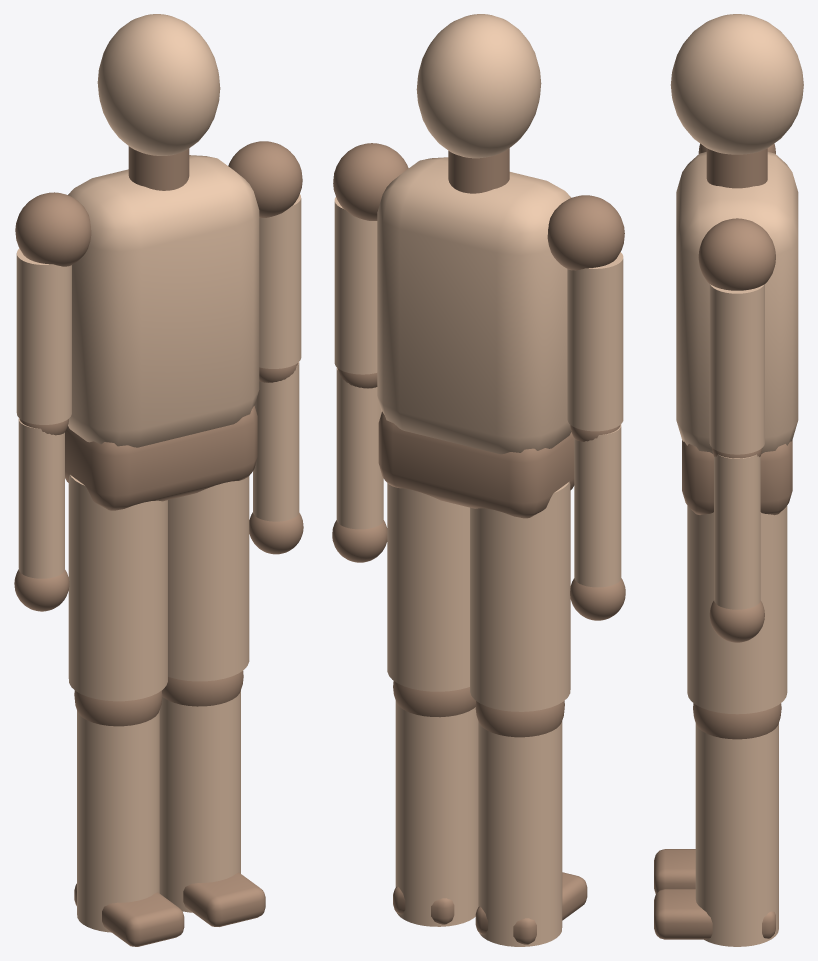
The model's file is phantom.glb.
3 renders of one model, left to right at view 1: azimuth 30°, elevation 25°; view 2: azimuth 150°, elevation 25°; view 3: azimuth 270°, elevation 25°, orthographic.
Visible parts, largest first — view 1: torso, Cylinder.001, Cylinder.005, Cylinder, Cylinder.004, head, Cube.002, Cylinder.002, Cylinder.003, Cylinder.006, Cylinder.007, Sphere.001 (+8 smaller); view 2: torso, Cylinder.001, Cylinder, Cylinder.004, Cylinder.005, head, Cube.002, Cylinder.002, Cylinder.003, Cylinder.006, Cylinder.007, Sphere.001 (+8 smaller); view 3: torso, Cylinder.004, head, Cylinder.005, Cylinder.006, Cylinder.007, Sphere.005, Cube.002, Cube.001, Sphere.004, Cylinder.008, Sphere.007 (+1 smaller).
Part boxes in pixels (x1,y1,x2,y2): torso: (68,155,259,447); Cylinder.001: (68,475,167,701); Cylinder.005: (168,476,249,681); Cylinder: (77,710,159,932); Cylinder.004: (159,690,240,912); head: (97,14,220,155); Cube.002: (65,405,257,510); Cylinder.002: (16,248,71,424); Cylinder.003: (18,418,64,578); Cylinder.006: (259,194,301,368); Cylinder.007: (253,362,299,521); Sphere.001: (15,192,91,266); torso: (377,157,571,454); Cylinder.001: (470,481,570,711); Cylinder: (478,721,562,946); Cylinder.004: (395,701,478,926); Cylinder.005: (387,483,469,691); head: (416,14,541,158); Cube.002: (378,411,574,518); Cylinder.002: (567,252,623,431); Cylinder.003: (574,424,621,587); Cylinder.006: (334,197,377,374); Cylinder.007: (336,367,383,529); Sphere.001: (547,195,624,270); torso: (676,152,798,453); Cylinder.004: (695,723,778,946); head: (670,14,803,154); Cylinder.005: (687,505,787,714); Cylinder.006: (709,284,764,454); Cylinder.007: (714,454,760,609); Sphere.005: (698,218,775,290); Cube.002: (682,440,792,515); Cube.001: (654,889,775,939); Sphere.004: (693,703,781,739); Cylinder.008: (706,148,767,188); Sphere.007: (709,600,764,642).
Size of the model in its own units: 0.59 by 1.77 by 0.27.
